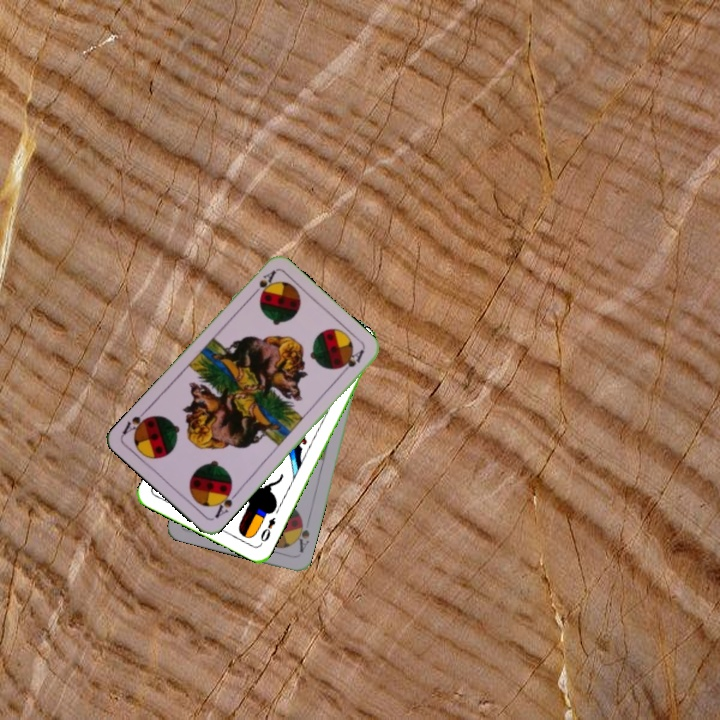EO: (256, 513, 278, 547)
SA: (210, 483, 241, 521), (247, 266, 278, 300), (291, 515, 312, 555)
